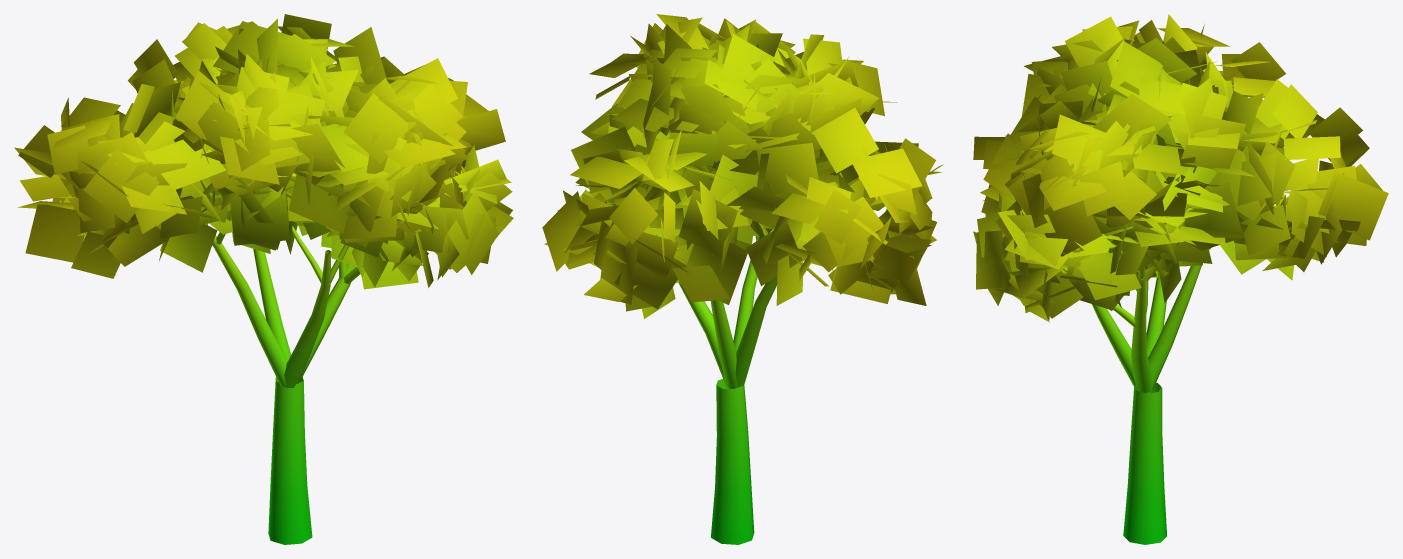
File: keyaki_a.glb
3 renders of one model, left to right at view 1: azimuth 30°, elevation 25°; view 2: azimuth 150°, elevation 25°; view 3: azimuth 270°, elevation 25°, orthographic. The views are drawn at different scales.
Visible parts, largest first — view 1: keyaki_a; view 2: keyaki_a; view 3: keyaki_a.
Part boxes in pixels (x1,y1,x2,y2): keyaki_a: [14, 14, 513, 544]; keyaki_a: [542, 14, 943, 544]; keyaki_a: [973, 14, 1388, 544].
Size of the model in its own units: 7.29 by 8.96 by 6.81.
